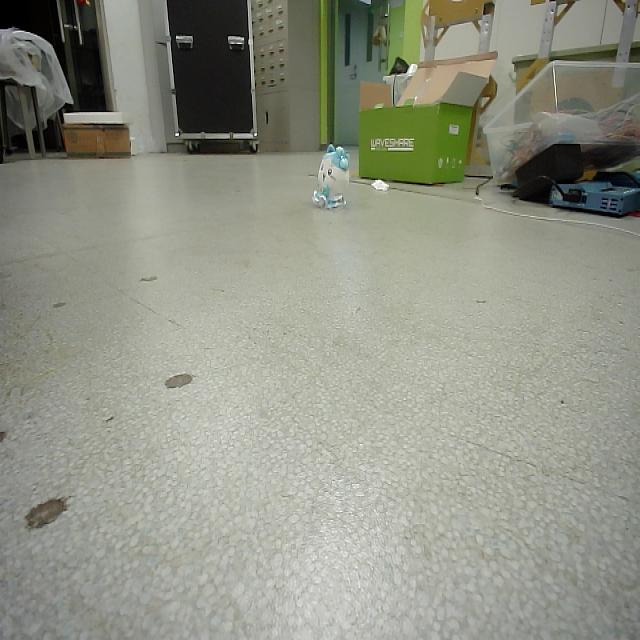xiaoba: (306, 142, 351, 211)
